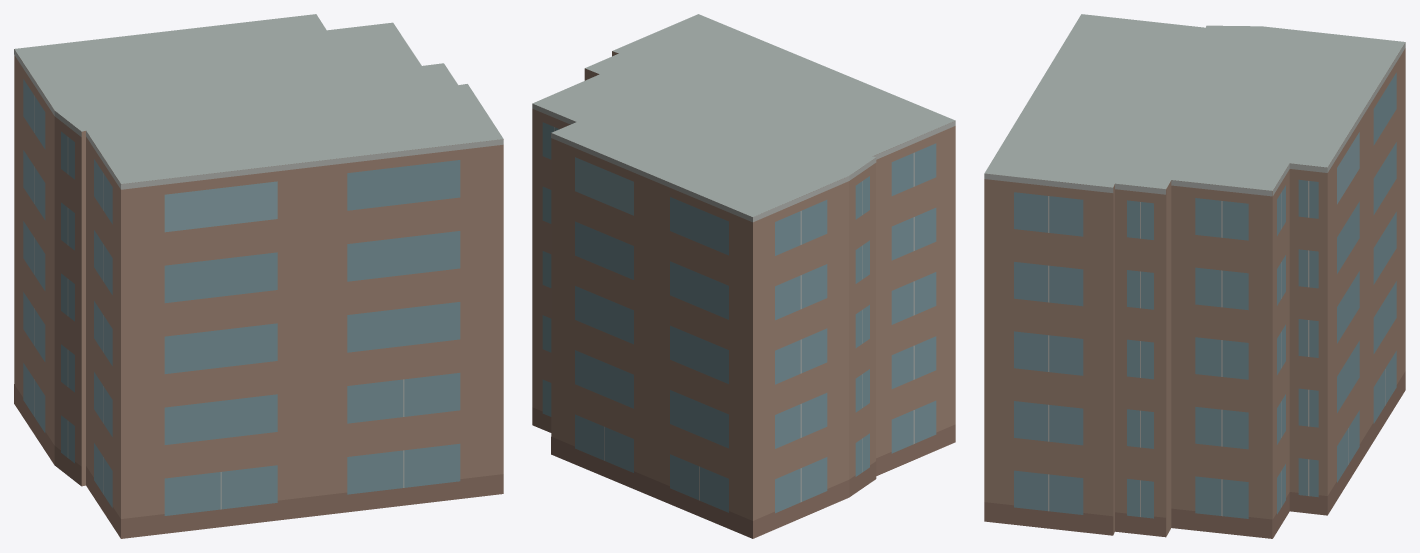
The model's file is survey-upis-32552946.glb.
3 views of the same model, side by side, from view 1: azimuth 30°, elevation 25°; view 2: azimuth 150°, elevation 25°; view 3: azimuth 270°, elevation 25° (orthographic). The views are drawn at different scales.
Visible parts, largest first — view 1: survey-upis-32552946.tmp; view 2: survey-upis-32552946.tmp; view 3: survey-upis-32552946.tmp.
Part boxes in pixels (bbox=[...]): survey-upis-32552946.tmp: bbox=[14, 14, 503, 538]; survey-upis-32552946.tmp: bbox=[532, 14, 955, 538]; survey-upis-32552946.tmp: bbox=[984, 14, 1405, 538].
Size of the model in its own units: 16.69 by 15.3 by 16.8.
